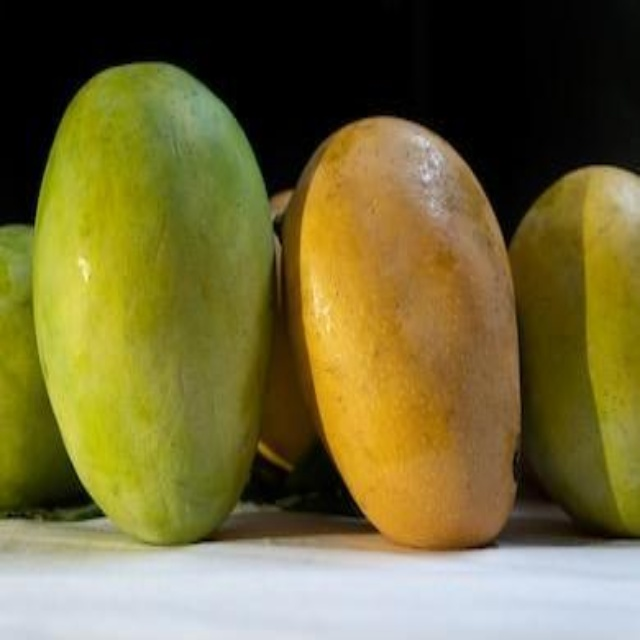mango: (32, 59, 269, 544), (286, 121, 520, 545), (496, 167, 639, 538)
